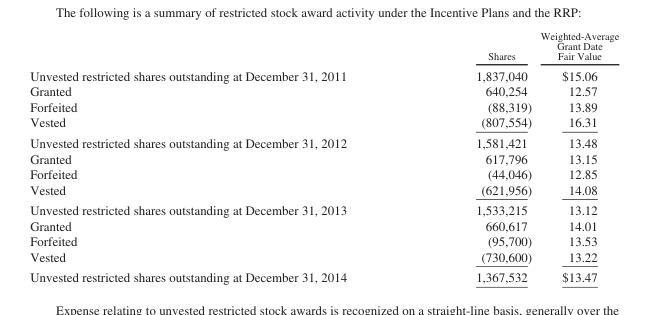table: (29, 29, 618, 284)
table column: (29, 29, 410, 284), (410, 29, 535, 284), (535, 29, 618, 284)
table column header: (29, 29, 618, 64)
table row: (29, 29, 618, 64), (29, 64, 618, 83), (29, 114, 618, 132), (29, 132, 618, 150), (29, 181, 618, 199), (29, 199, 618, 217), (29, 248, 618, 266), (29, 266, 618, 284), (29, 98, 618, 114), (29, 165, 618, 181), (29, 217, 618, 233), (29, 83, 618, 98), (29, 150, 618, 165), (29, 233, 618, 248)
